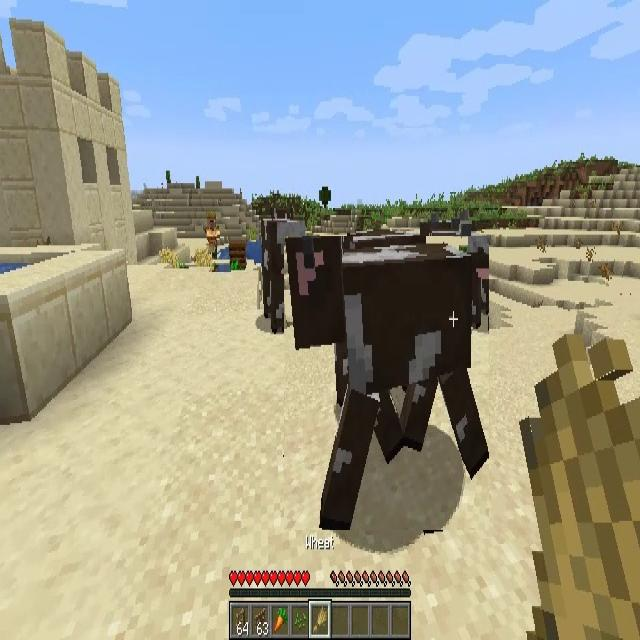cow: (284, 236, 489, 530), (260, 215, 304, 342)
